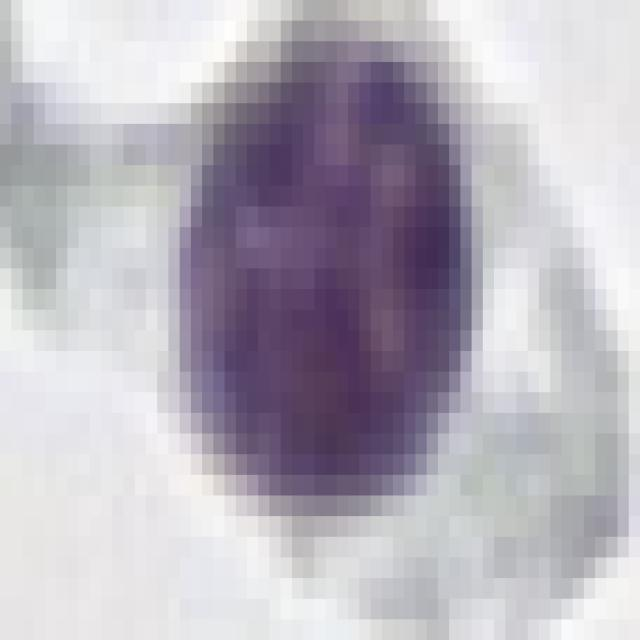nucleus: (185, 35, 481, 506)
